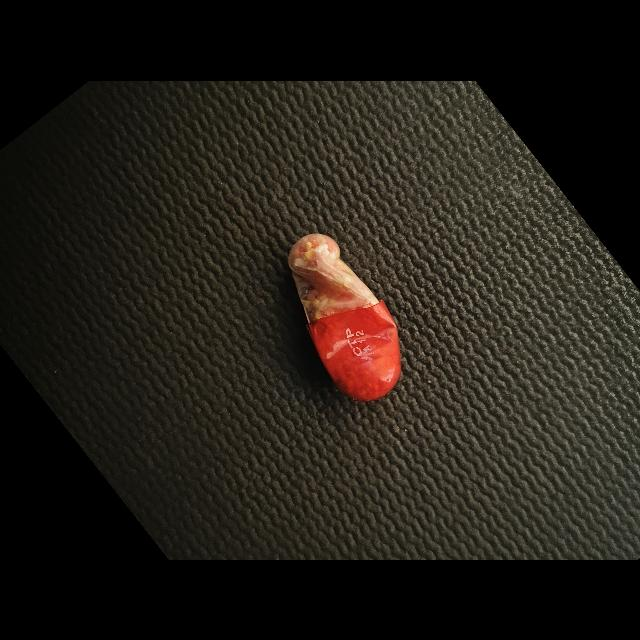Defective Capsule: (288, 233, 401, 400)
